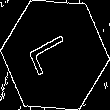L_NE: (28, 30, 82, 80)
